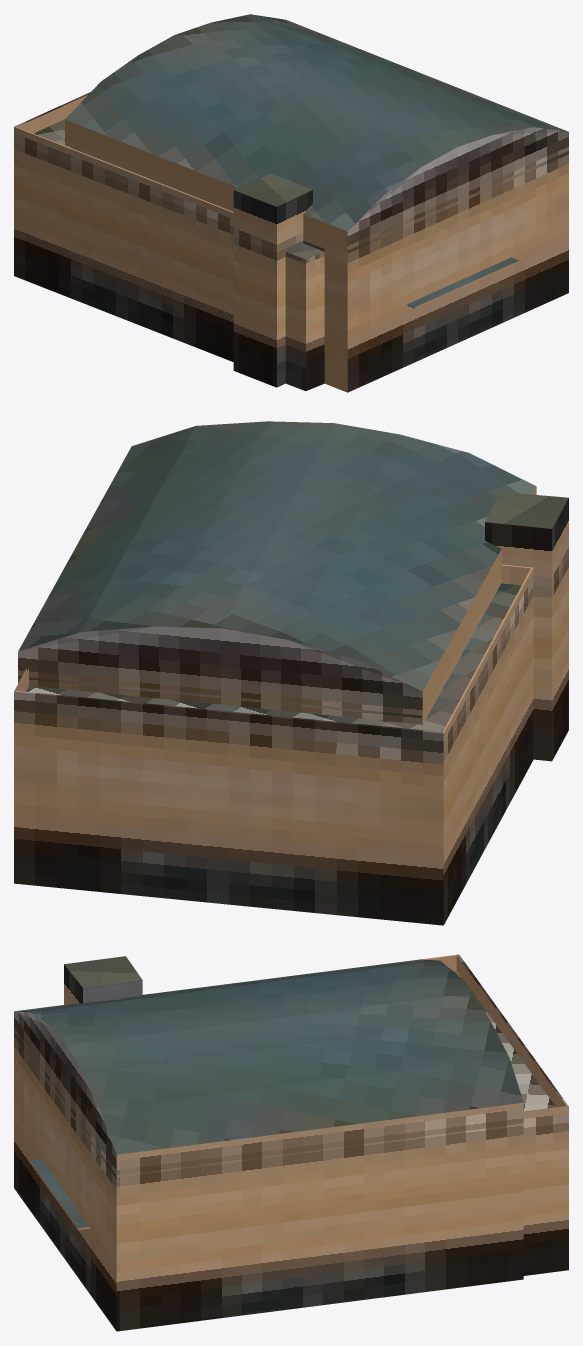
File: HPDPKS_xietulu885hao.dae
3 views of the same model, one above another, from view 1: azimuth 30°, elevation 25°; view 2: azimuth 150°, elevation 25°; view 3: azimuth 270°, elevation 25° (orthographic). The views are drawn at different scales.
Parts seen in each view (by area): view 1: HPDPKS_xietulu885hao_loudin, HPDPKS_xietulu885hao_3F, HPDPKS_xietulu885hao_1F, HPDPKS_xietulu885hao_2F; view 2: HPDPKS_xietulu885hao_loudin, HPDPKS_xietulu885hao_3F, HPDPKS_xietulu885hao_2F, HPDPKS_xietulu885hao_1F; view 3: HPDPKS_xietulu885hao_loudin, HPDPKS_xietulu885hao_2F, HPDPKS_xietulu885hao_3F, HPDPKS_xietulu885hao_1F.
Part boxes in pixels (x1,y1,x2,y2): HPDPKS_xietulu885hao_loudin: (14,14,568,257); HPDPKS_xietulu885hao_3F: (14,141,568,302); HPDPKS_xietulu885hao_1F: (14,231,568,392); HPDPKS_xietulu885hao_2F: (14,186,568,347); HPDPKS_xietulu885hao_loudin: (14,421,568,752); HPDPKS_xietulu885hao_3F: (14,557,568,810); HPDPKS_xietulu885hao_2F: (14,615,568,867); HPDPKS_xietulu885hao_1F: (14,673,568,925); HPDPKS_xietulu885hao_loudin: (14,954,568,1183); HPDPKS_xietulu885hao_2F: (14,1090,568,1282); HPDPKS_xietulu885hao_3F: (14,1041,568,1232); HPDPKS_xietulu885hao_1F: (14,1139,568,1331).
Size of the model in its own units: 53.03 by 24.82 by 58.27.
Materials: 9 (9 with a texture image).
